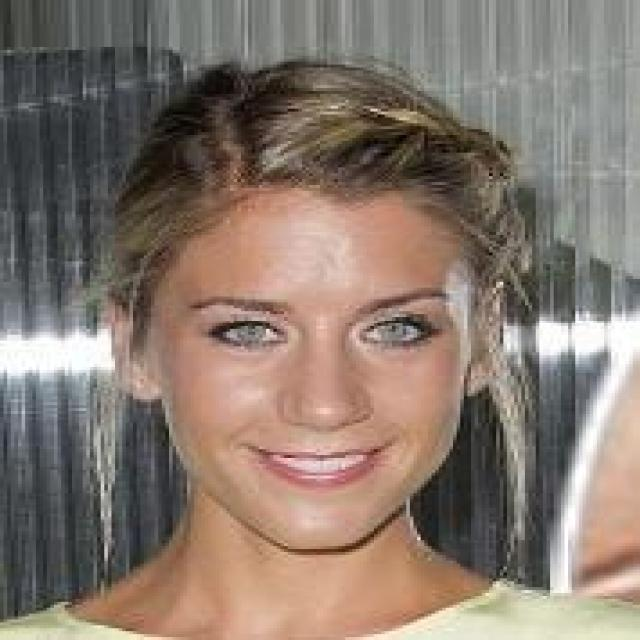nomask: (101, 108, 521, 558)
